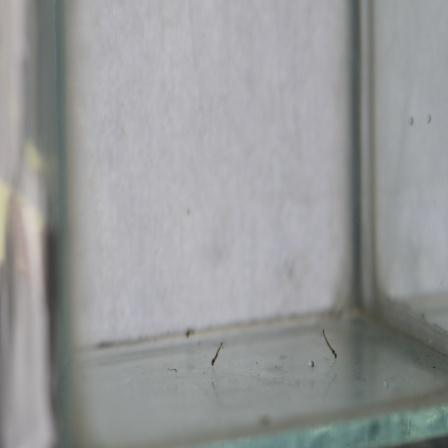Jentik-Nyamuk: (318, 325, 340, 363), (205, 338, 228, 368)
